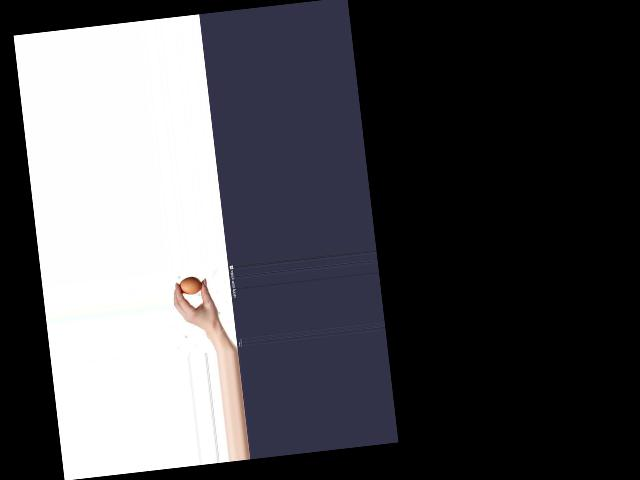egg: (179, 275, 203, 296)
